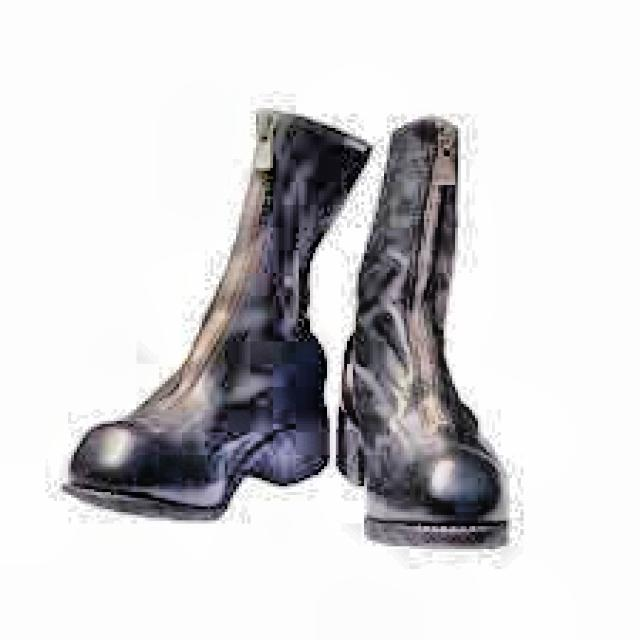shoes: (38, 83, 566, 567)
